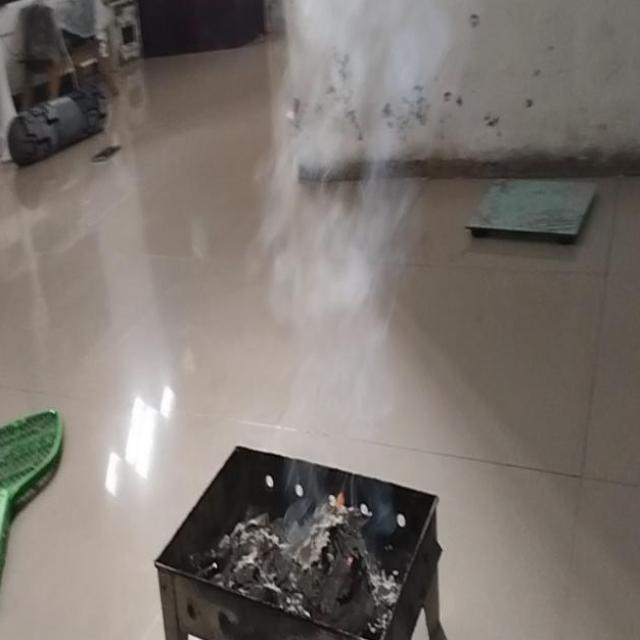fire: (264, 0, 409, 421)
